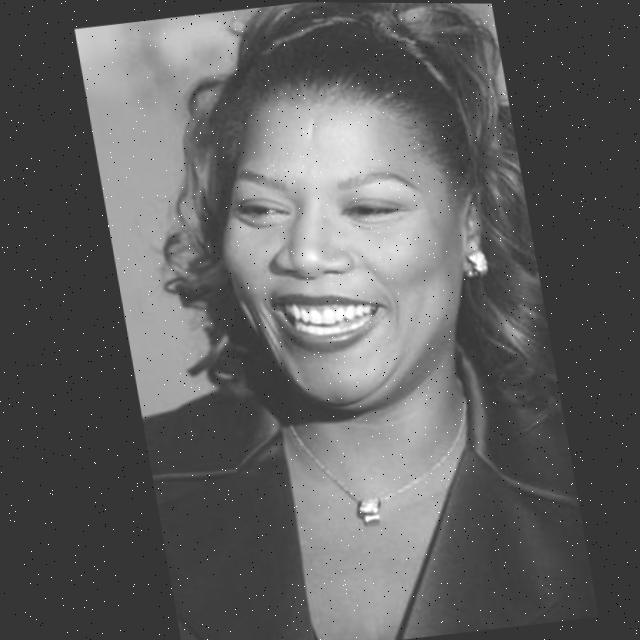face: (191, 75, 509, 432)
